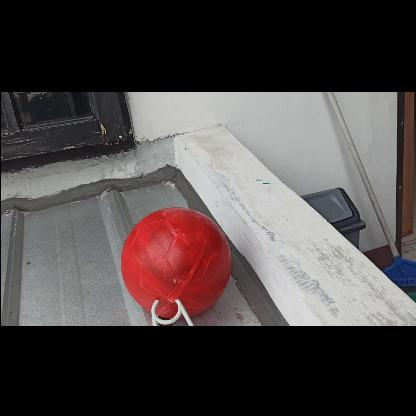red_ball: (119, 206, 229, 316)
